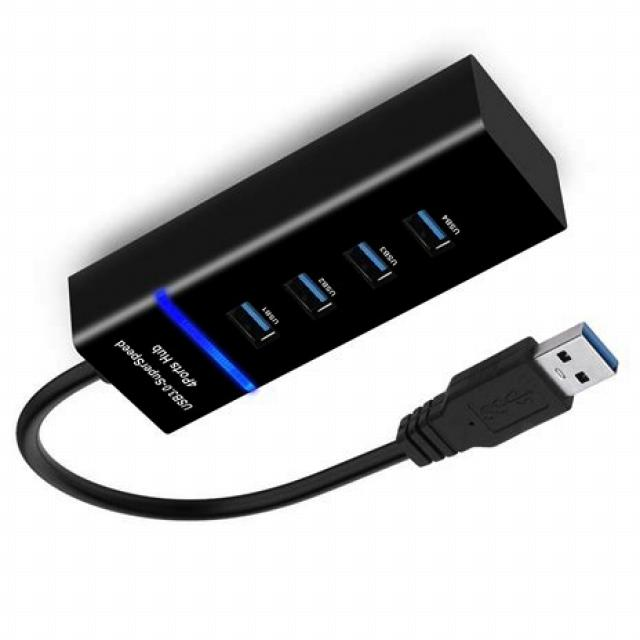usb port: (234, 299, 283, 352), (408, 214, 458, 259), (349, 237, 389, 290), (292, 276, 331, 318)
